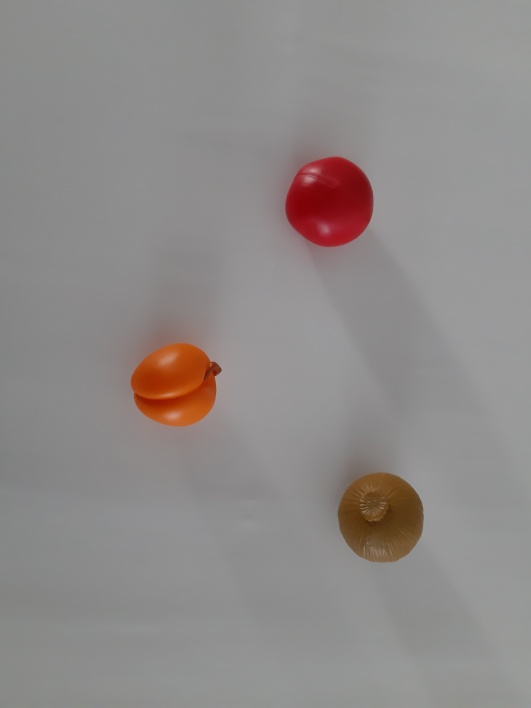apricot: (106, 326, 253, 450)
onion: (316, 456, 447, 581)
tomato: (270, 143, 391, 274)
